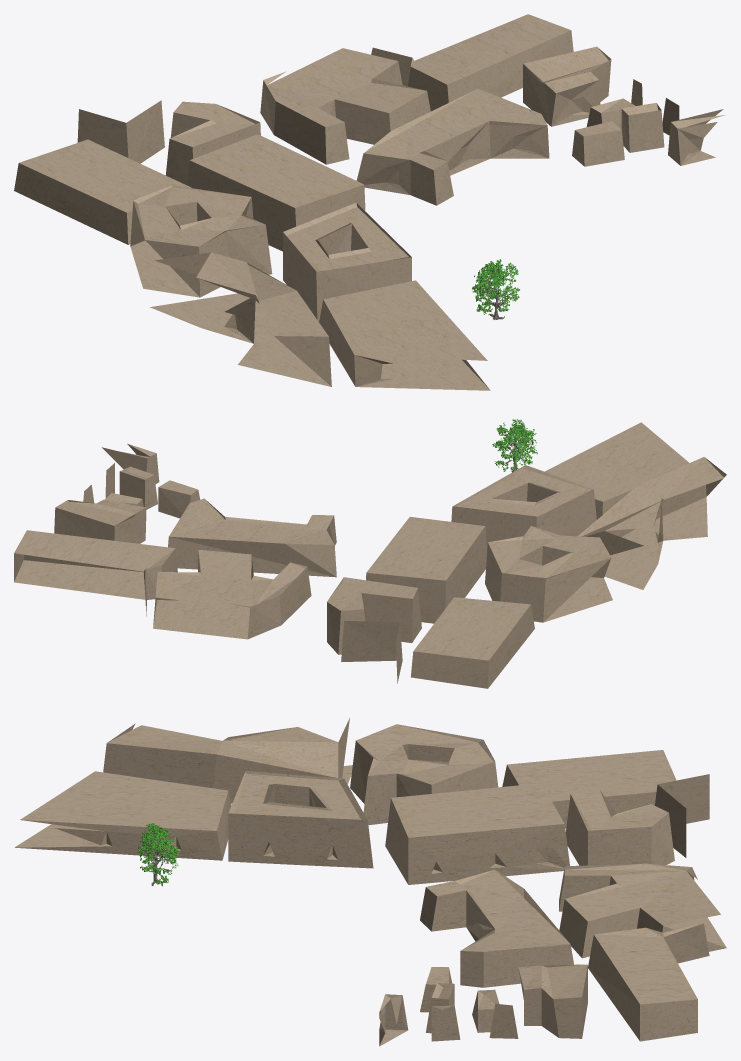
The model's file is tile_-1_-1.gltf.
3 renders of one model, top to bottom at view 1: azimuth 30°, elevation 25°; view 2: azimuth 150°, elevation 25°; view 3: azimuth 270°, elevation 25°, orthographic. The views are drawn at different scales.
Parts seen in each view (by area): view 1: Plane.011@tile_-1_-1, Bodhi Tree_Bodhi_front_2_Mat_0.044@tile_-1_-1; view 2: Plane.011@tile_-1_-1, Bodhi Tree_Bodhi_front_2_Mat_0.044@tile_-1_-1; view 3: Plane.011@tile_-1_-1, Bodhi Tree_Bodhi_front_2_Mat_0.044@tile_-1_-1.
Part boxes in pixels (box(x1,y1,x2,y2)): Plane.011@tile_-1_-1: box(14, 14, 725, 390); Bodhi Tree_Bodhi_front_2_Mat_0.044@tile_-1_-1: box(472, 259, 519, 319); Plane.011@tile_-1_-1: box(14, 422, 726, 688); Bodhi Tree_Bodhi_front_2_Mat_0.044@tile_-1_-1: box(492, 419, 537, 472); Plane.011@tile_-1_-1: box(14, 718, 726, 1046); Bodhi Tree_Bodhi_front_2_Mat_0.044@tile_-1_-1: box(138, 823, 179, 886).
Bounding box in the file's own units: 107 × 11.57 × 111.
3 materials, 2 textured.
